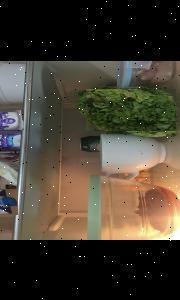Lechuga/Endivia: (86, 88, 176, 130)
Nata: (0, 187, 32, 213)
Yogur: (0, 109, 24, 129), (0, 129, 21, 149)
